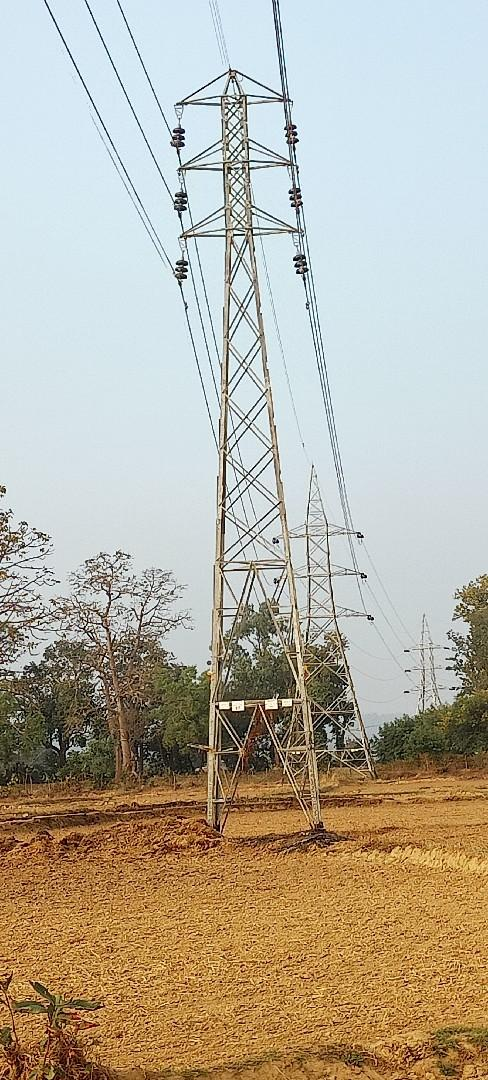GSM Antenna: (164, 63, 328, 801)
